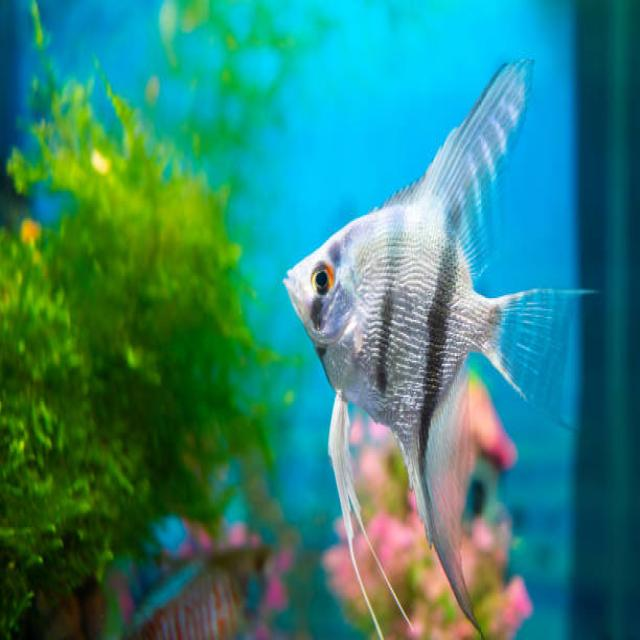AngelFish: (278, 66, 580, 624)
